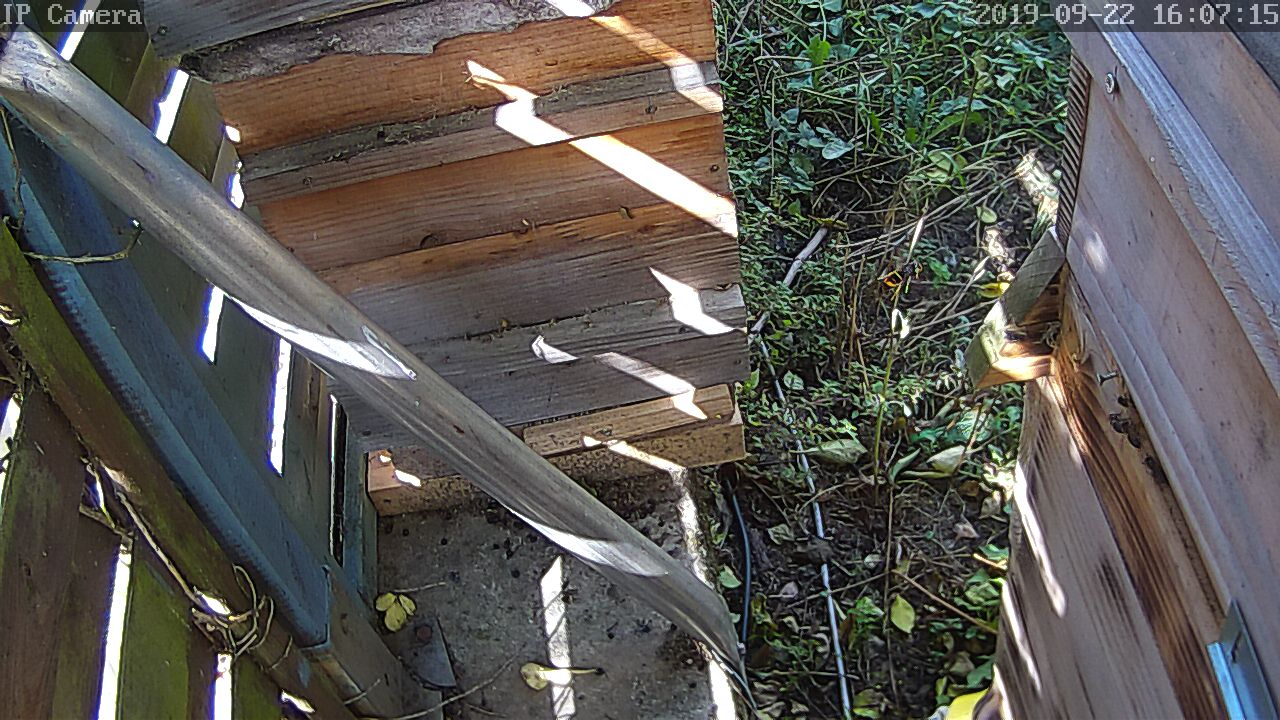bee: (1105, 407, 1148, 448), (1139, 451, 1166, 483)
hornet: (873, 258, 929, 298)
